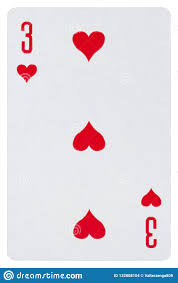two of hearts: (8, 9, 171, 261)
